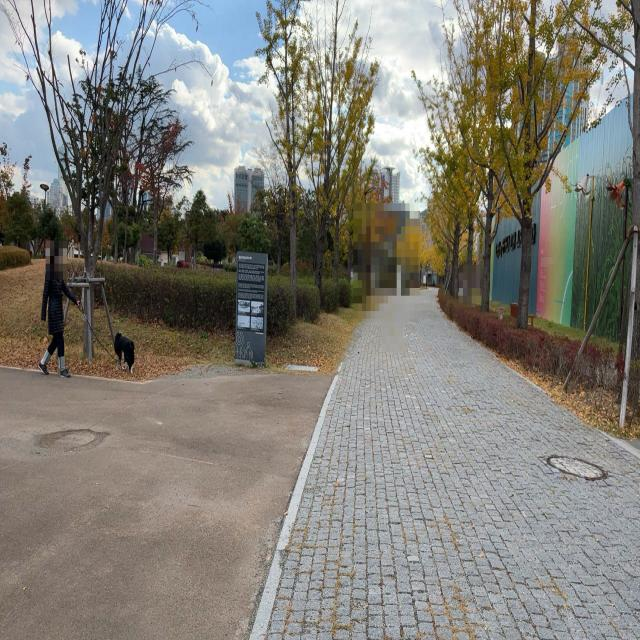Leashed_Dog: (56, 294, 135, 376)
